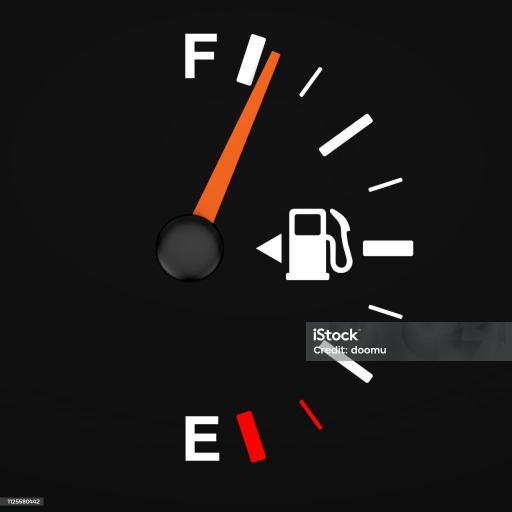empty: (178, 412, 222, 463)
fuel_icon: (283, 204, 355, 284)
full: (178, 26, 225, 81)
guage_area: (148, 21, 421, 475)
needle_center: (151, 208, 228, 290)
needle_tip: (261, 45, 290, 76)
